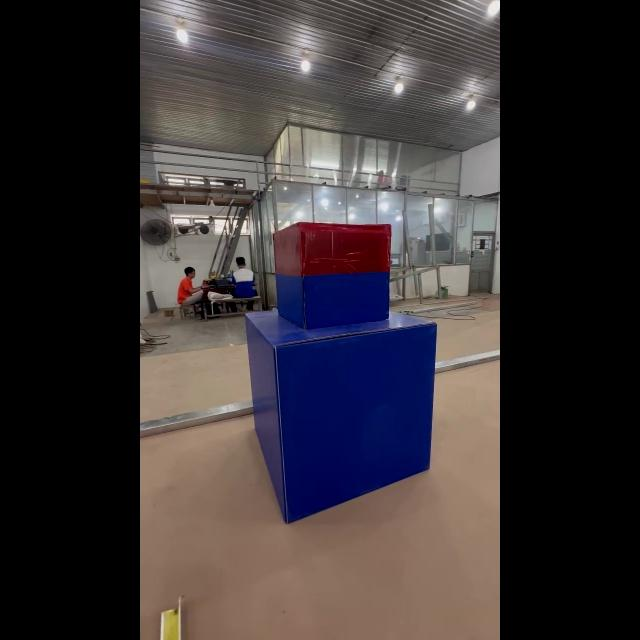earth_block: (244, 311, 438, 525)
sky_block: (273, 221, 396, 330)
